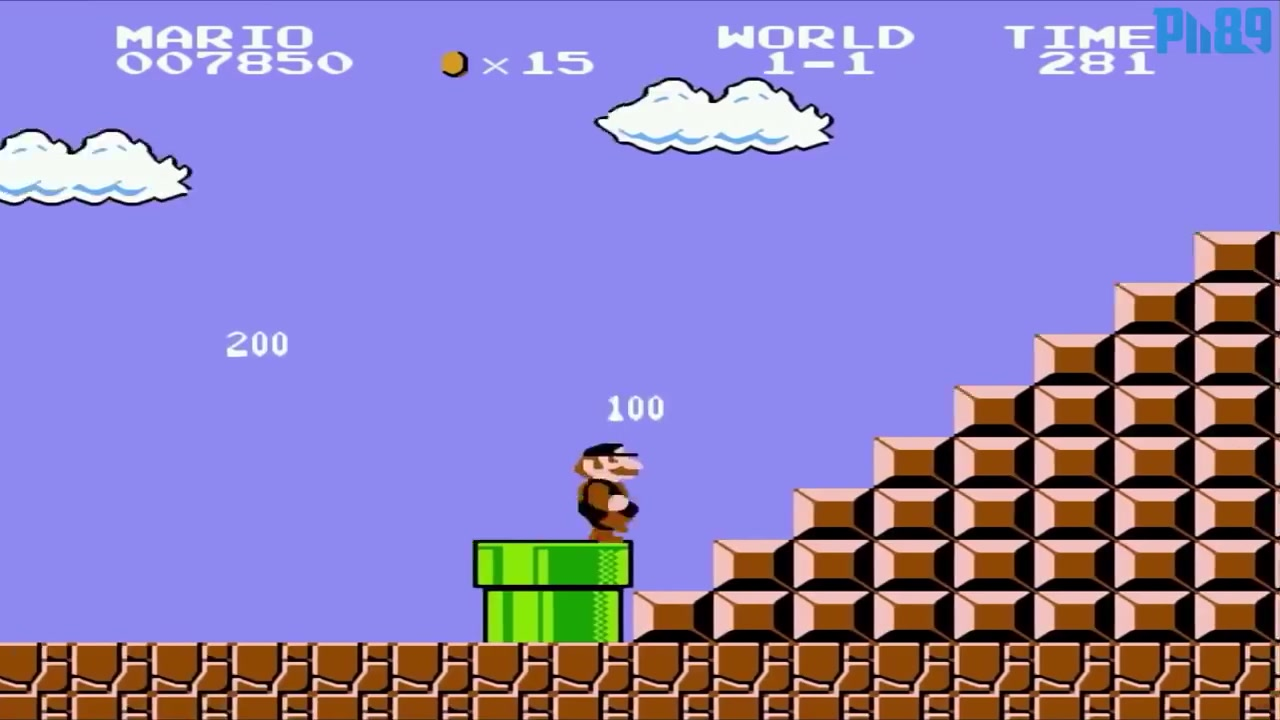mario: (562, 437, 656, 554)
